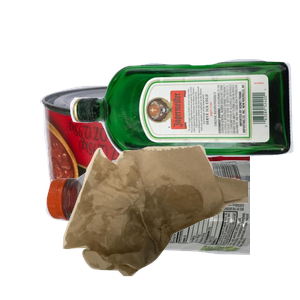glass: (67, 56, 300, 206)
metal: (37, 81, 277, 261)
plastic: (43, 152, 283, 300)
trash: (60, 142, 300, 300)
